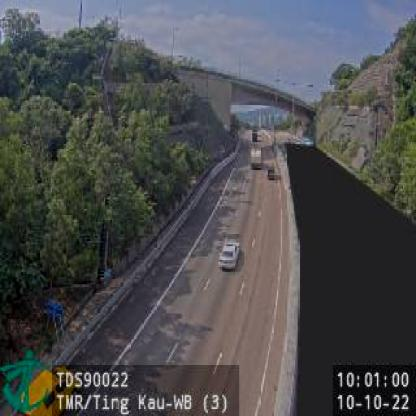Car: (220, 240, 242, 269)
Truck: (250, 146, 262, 170)
